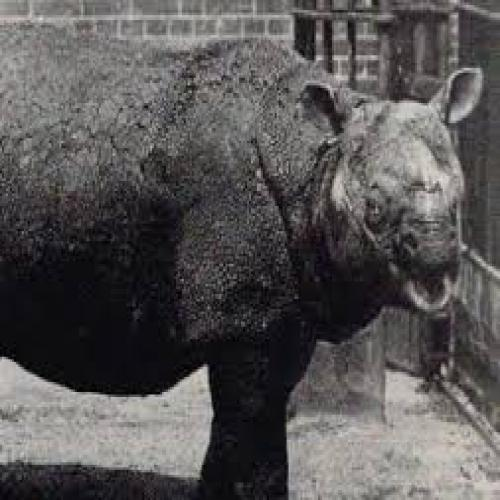rhino-endangered: (0, 23, 475, 500)
